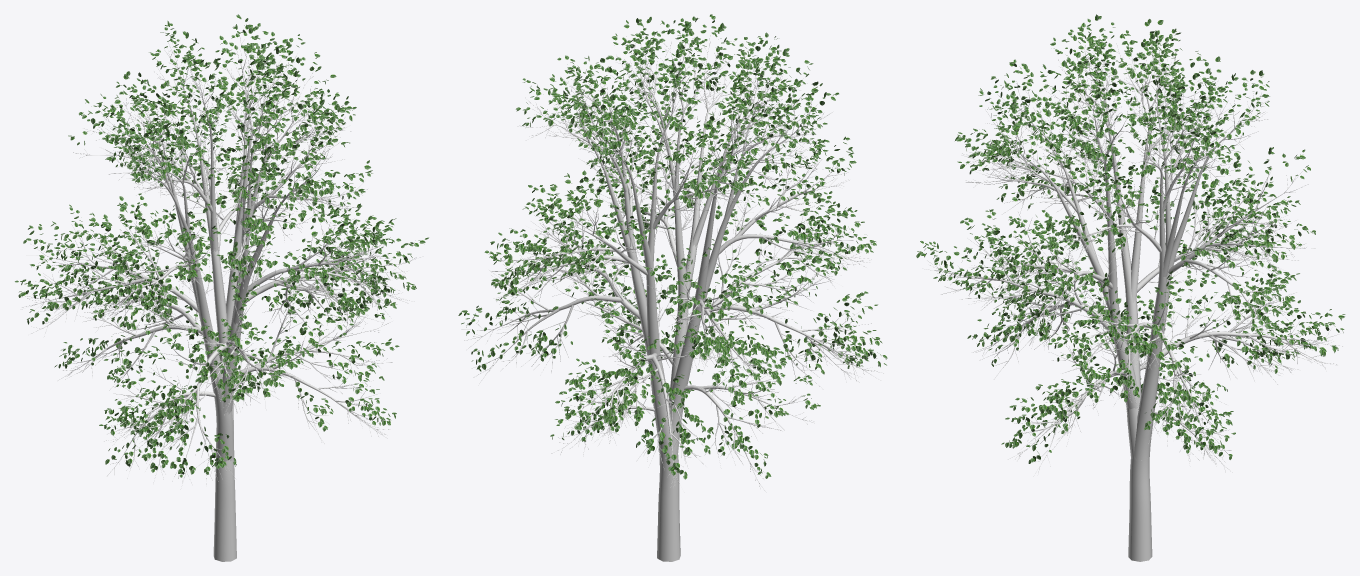
File: Small Maple3.fbx
The picture shows the model from 3 angles, left to right: view 1: azimuth 30°, elevation 25°; view 2: azimuth 150°, elevation 25°; view 3: azimuth 270°, elevation 25°; orthographic projection.
Parts seen in each view (by area): view 1: leaves.002, tree3_LOD0; view 2: leaves.002, tree3_LOD0; view 3: leaves.002, tree3_LOD0.
Boxes of the visible parts, bbox=[...] form: leaves.002: bbox=[15, 14, 428, 477]; tree3_LOD0: bbox=[20, 35, 422, 561]; leaves.002: bbox=[458, 14, 887, 479]; tree3_LOD0: bbox=[461, 35, 883, 561]; leaves.002: bbox=[916, 14, 1345, 463]; tree3_LOD0: bbox=[923, 37, 1343, 561].
Size of what is drawn, in the model's own units: 871 by 1220 by 920.
